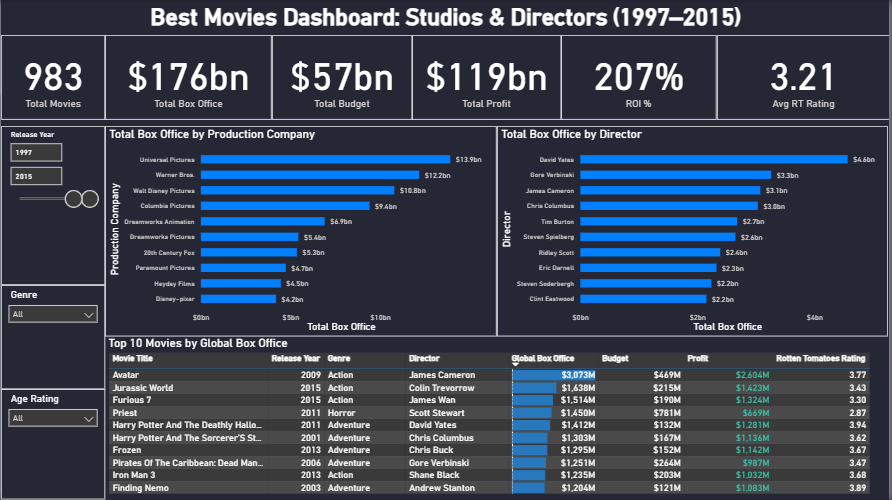

What the dashboard file says about the page in this screenshot:
{"tool":"powerbi","page":{"name":"Studios & Directors","canvas":[1280,720],"ordinal":2},"visuals":[{"type":"textbox","box":[0,0,1280,50.1],"z":0},{"type":"card","fields":{"Values":["Movies Measures.Total Movies"]},"box":[0,50.1,150.4,122.1],"z":1000},{"type":"card","fields":{"Values":["Movies Measures.Total Box Office"]},"box":[150.4,50.1,240.3,122.1],"z":2000},{"type":"card","fields":{"Values":["Movies Measures.Total Budget"]},"box":[390.7,50.1,201.8,122.1],"z":3000},{"type":"card","fields":{"Values":["Movies Measures.Total Profit"]},"box":[592.4,50.1,214.6,122.1],"z":4000},{"type":"card","fields":{"Values":["Movies Measures.ROI %"]},"box":[807.1,50.1,223.6,122.1],"z":5000},{"type":"card","fields":{"Values":["Movies Measures.Avg RT Rating"]},"box":[1030.7,50.1,249.3,122.1],"z":6000},{"type":"slicer","fields":{"Values":["Movies.Release Year"]},"box":[0,181.2,150.4,228.8],"z":7000},{"type":"slicer","fields":{"Values":["Movies.Genre"]},"box":[0,410,150.4,150.4],"z":8000},{"type":"slicer","fields":{"Values":["Movies.Age Rating"]},"box":[0,560.3,150.4,159.4],"z":9000},{"type":"clusteredBarChart","fields":{"Category":["Movies.Production Company"],"Y":["Movies Measures.Total Box Office"]},"box":[150.4,181.2,564.2,303.3],"z":10000},{"type":"clusteredBarChart","fields":{"Category":["Movies.Director"],"Y":["Movies Measures.Total Box Office"]},"box":[714.5,181.2,562.9,303.3],"z":11000},{"type":"tableEx","title":"Top 10 Movies by Global Box Office","fields":{"Values":["Movies.Movie Title","Movies.Release Year","Movies.Genre","Movies.Director","Sum(Movies.Global Box Office)","Sum(Movies.Budget)","Sum(Movies.Profit)","Sum(Movies.Rotten Tomatoes Rating)"]},"box":[150.4,484.5,1127.1,235.2],"z":12000}]}

Visuals, with their boxes in screenshot pixels (x1, y1, x2, y2), scaled from the page's 1280x720 canvas onto the 892x500 screenshot:
textbox: pyautogui.locateOnScreen(0, 0, 891, 35)
card - Movies Measures.Total Movies: pyautogui.locateOnScreen(0, 35, 105, 120)
card - Movies Measures.Total Box Office: pyautogui.locateOnScreen(105, 35, 272, 120)
card - Movies Measures.Total Budget: pyautogui.locateOnScreen(272, 35, 413, 120)
card - Movies Measures.Total Profit: pyautogui.locateOnScreen(413, 35, 562, 120)
card - Movies Measures.ROI %: pyautogui.locateOnScreen(562, 35, 718, 120)
card - Movies Measures.Avg RT Rating: pyautogui.locateOnScreen(718, 35, 891, 120)
slicer - Movies.Release Year: pyautogui.locateOnScreen(0, 126, 105, 285)
slicer - Movies.Genre: pyautogui.locateOnScreen(0, 285, 105, 389)
slicer - Movies.Age Rating: pyautogui.locateOnScreen(0, 389, 105, 499)
clusteredBarChart - Movies.Production Company x Movies Measures.Total Box Office: pyautogui.locateOnScreen(105, 126, 498, 336)
clusteredBarChart - Movies.Director x Movies Measures.Total Box Office: pyautogui.locateOnScreen(498, 126, 890, 336)
"Top 10 Movies by Global Box Office" tableEx: pyautogui.locateOnScreen(105, 336, 890, 499)
